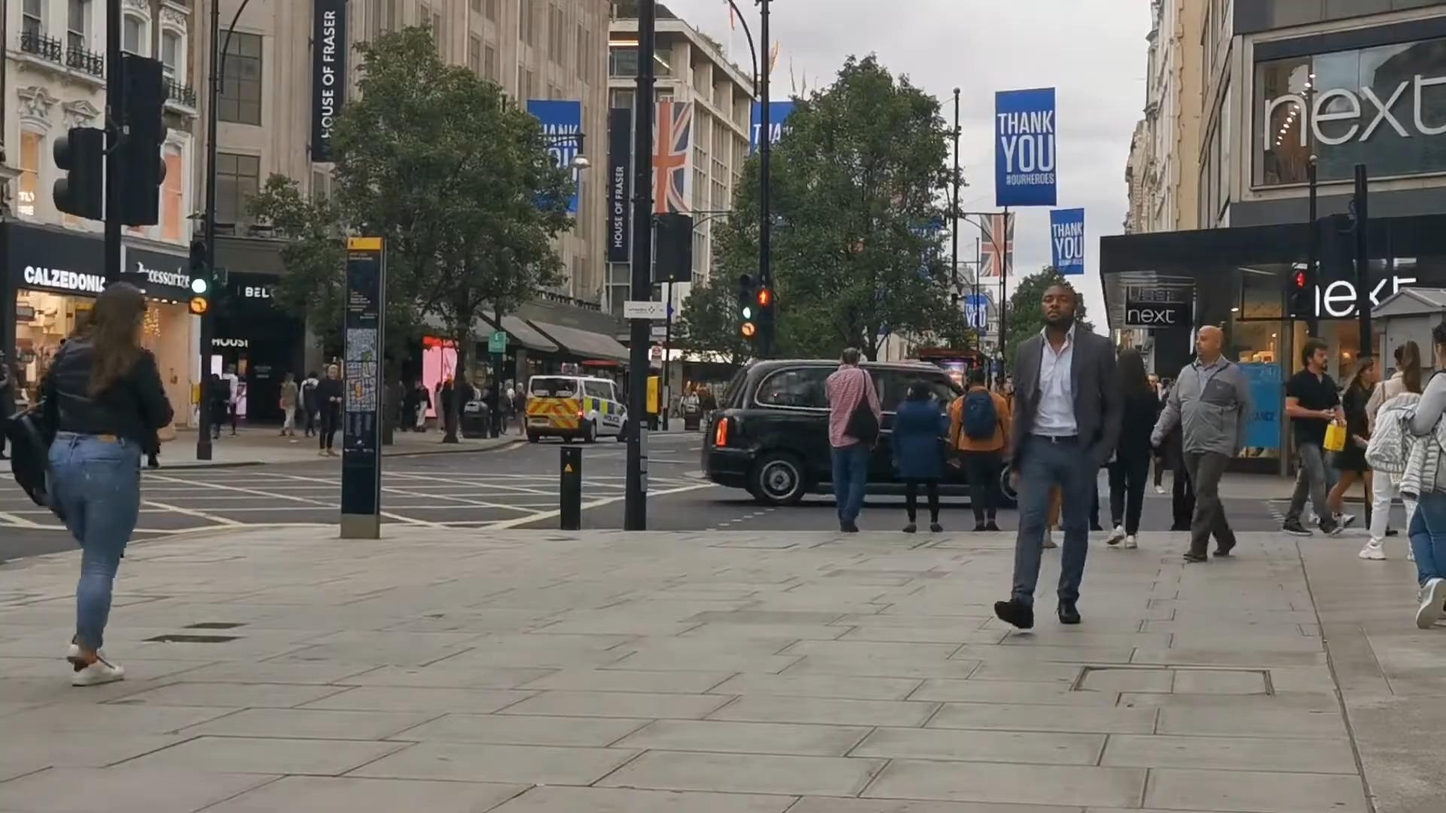no-helmet: (71, 281, 149, 347), (1041, 284, 1077, 326), (1115, 349, 1148, 389), (1195, 324, 1224, 359), (1301, 337, 1328, 373), (1395, 340, 1420, 374), (1432, 319, 1446, 370), (906, 378, 933, 402), (1351, 356, 1375, 382), (966, 367, 986, 388), (842, 347, 861, 367)
